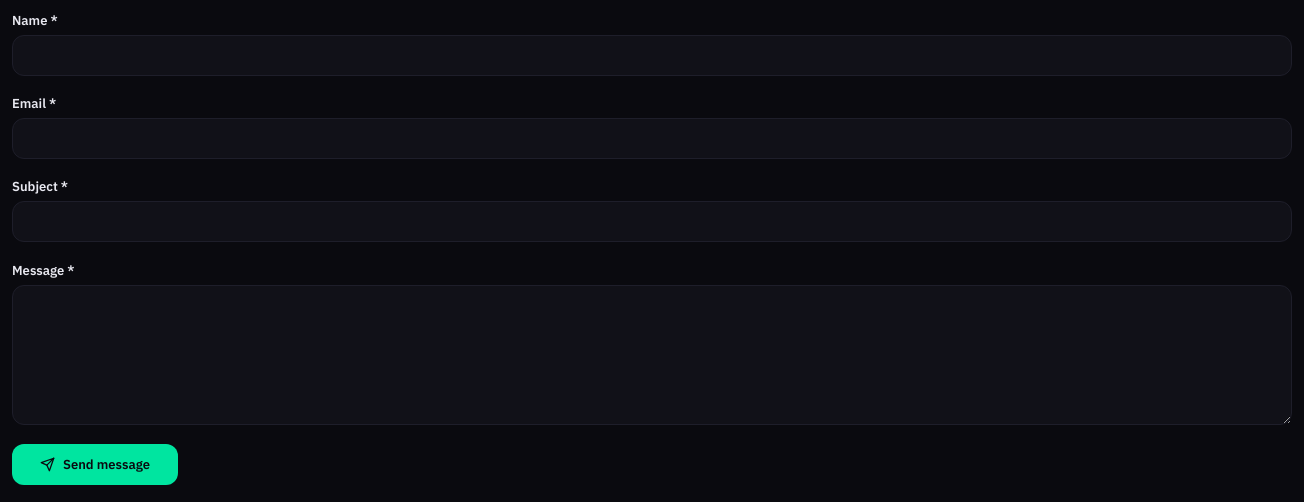
Test: Contact Form — Submission › shows success screen after successful submission
Type "Jane Doe" into the field labelled "Name *" at (652, 56), box [12,35,1292,76]
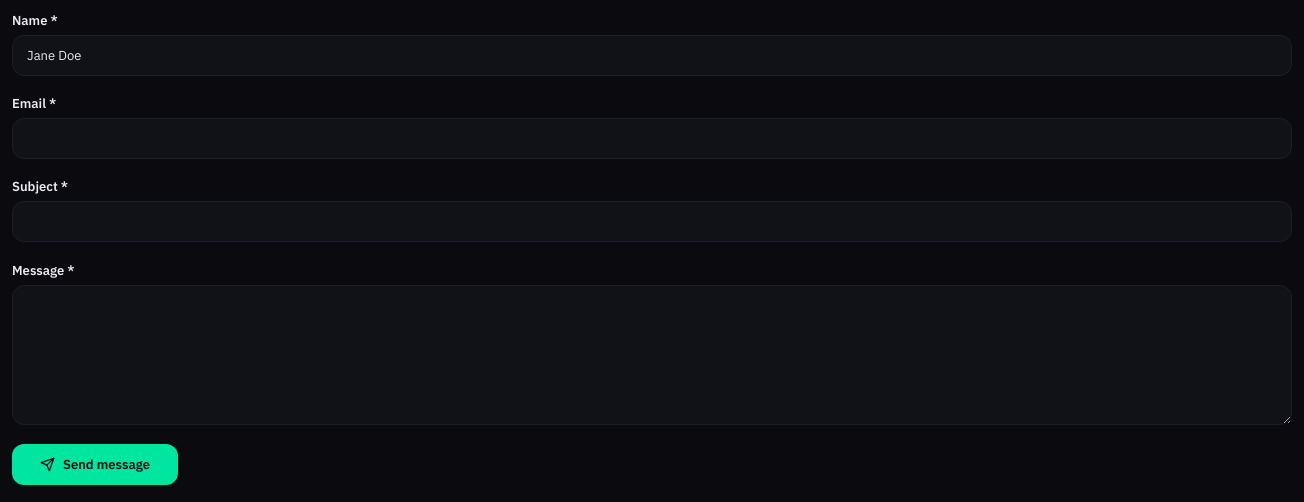
Type "jane@example.com" into the field labelled "Email *" at (652, 139), box [12,118,1292,159]
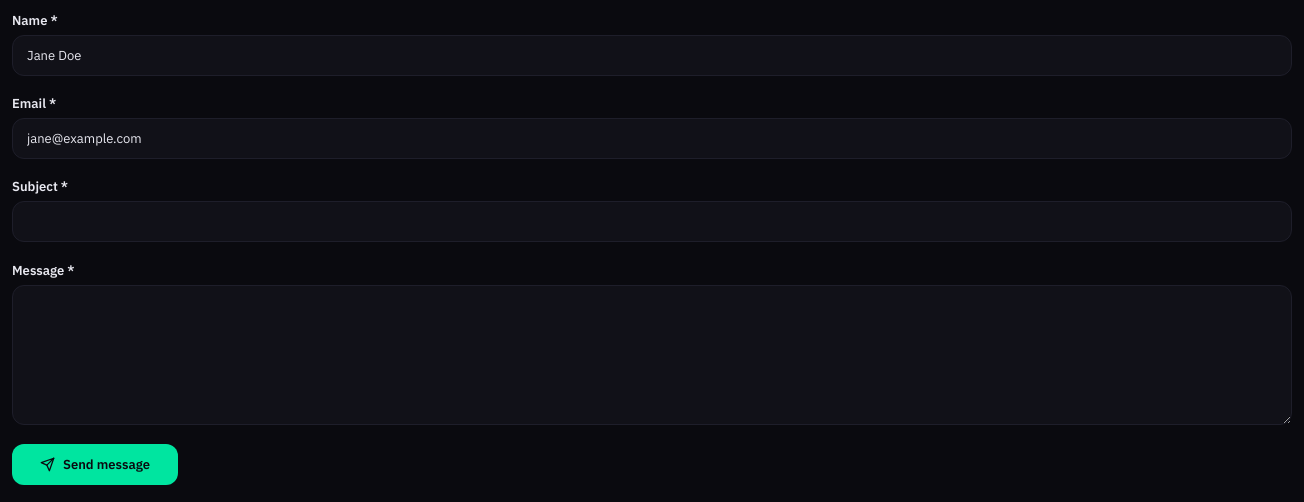
Type "Test Subject" into the field labelled "Subject *" at (652, 222), box [12,201,1292,242]
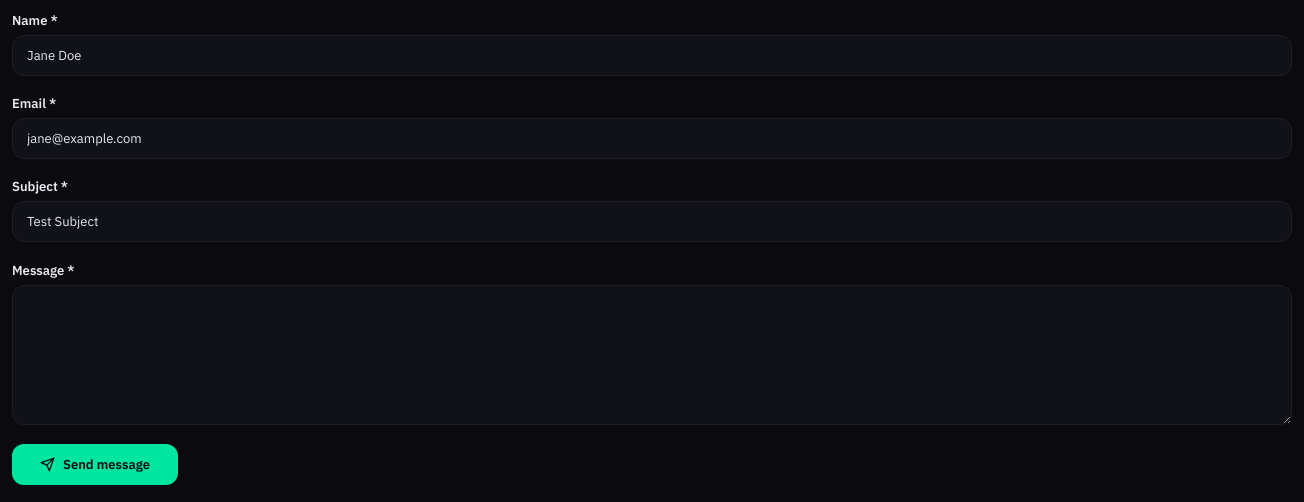
Type "Hello, this is a test message." into the text box labelled "Message *" at (652, 355), box [12,285,1292,425]
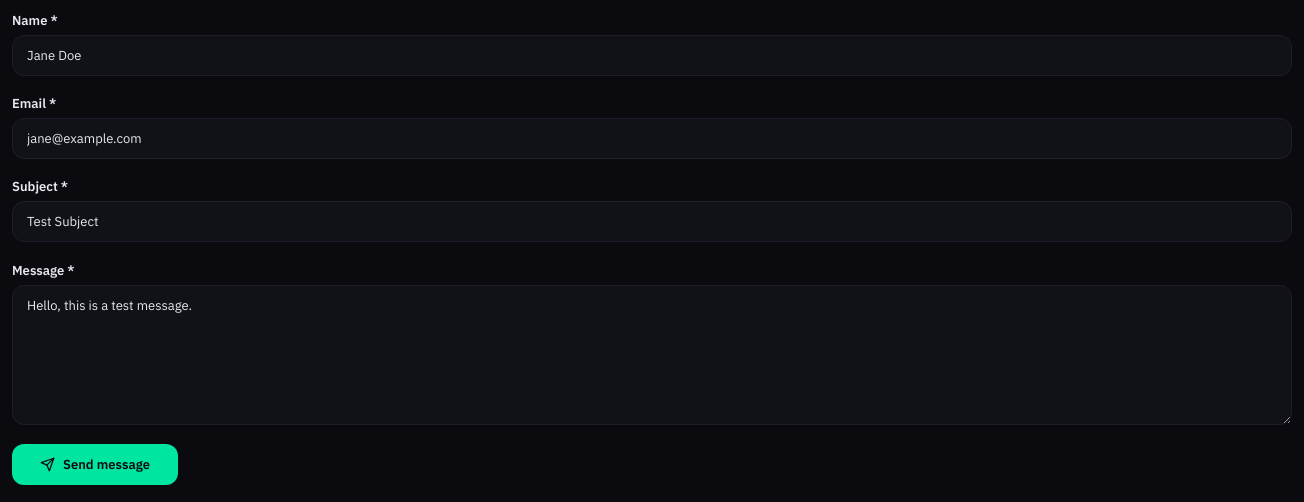
Click the button "Send message" at (95, 464), box [12,444,178,485]
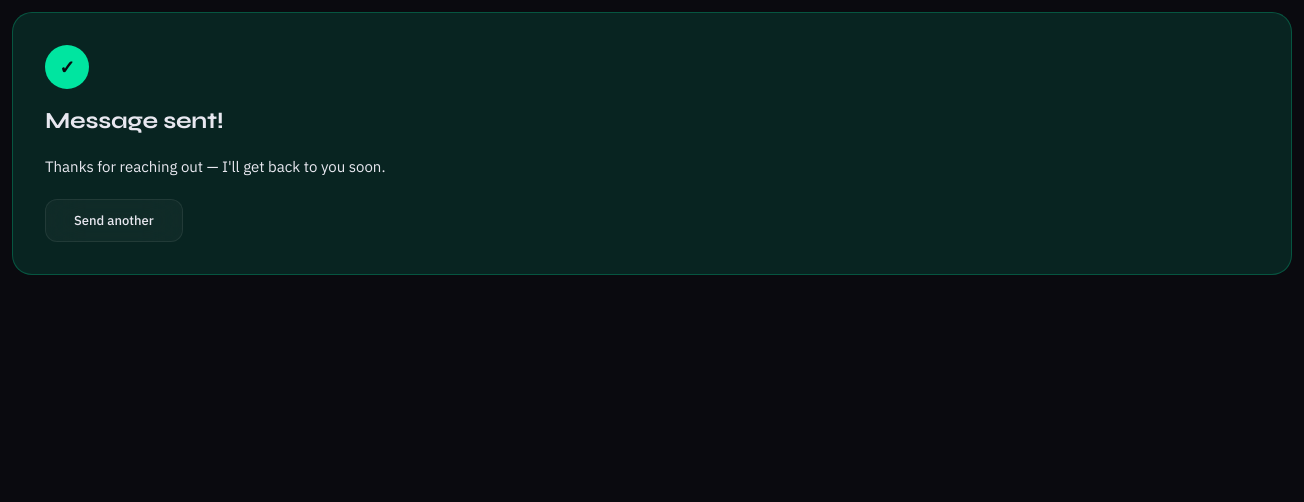
Check: the heading "Message sent!" is shown, box [45,108,224,135]
